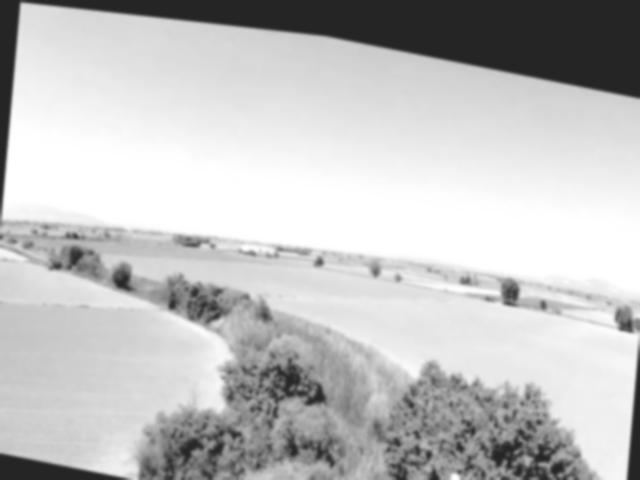hedef: (403, 440, 529, 480)
